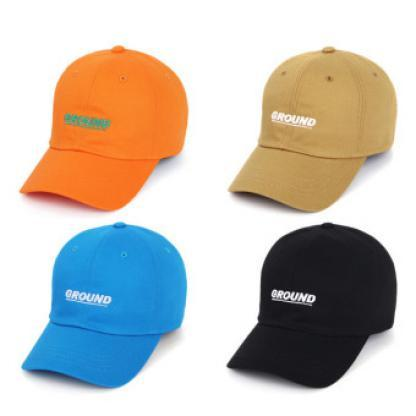cap: (218, 41, 402, 216), (15, 218, 191, 392), (223, 220, 402, 390), (13, 41, 192, 210)
